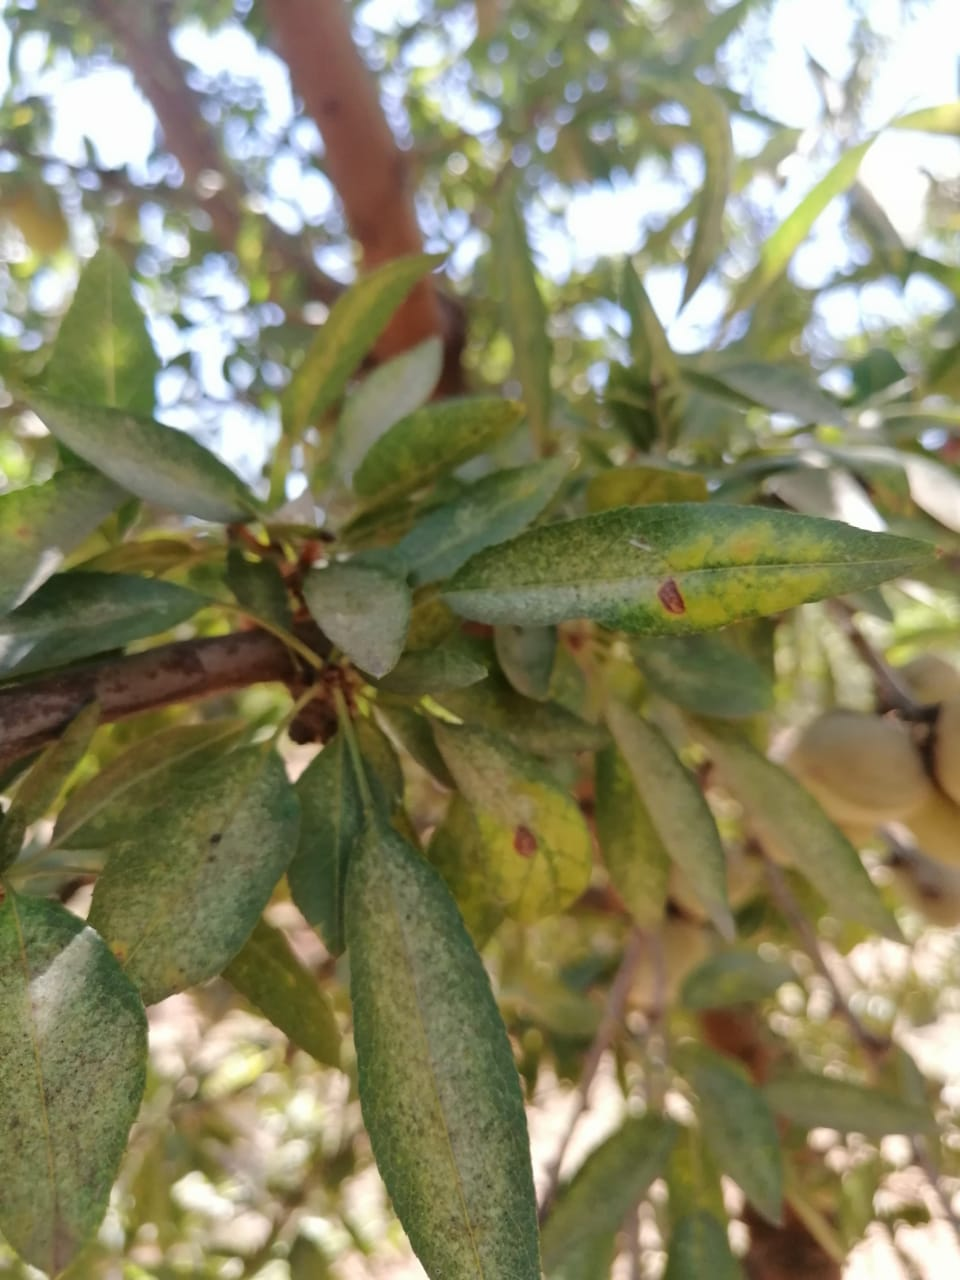acariens: (346, 817, 546, 1280), (444, 499, 959, 638), (84, 740, 302, 1008)
